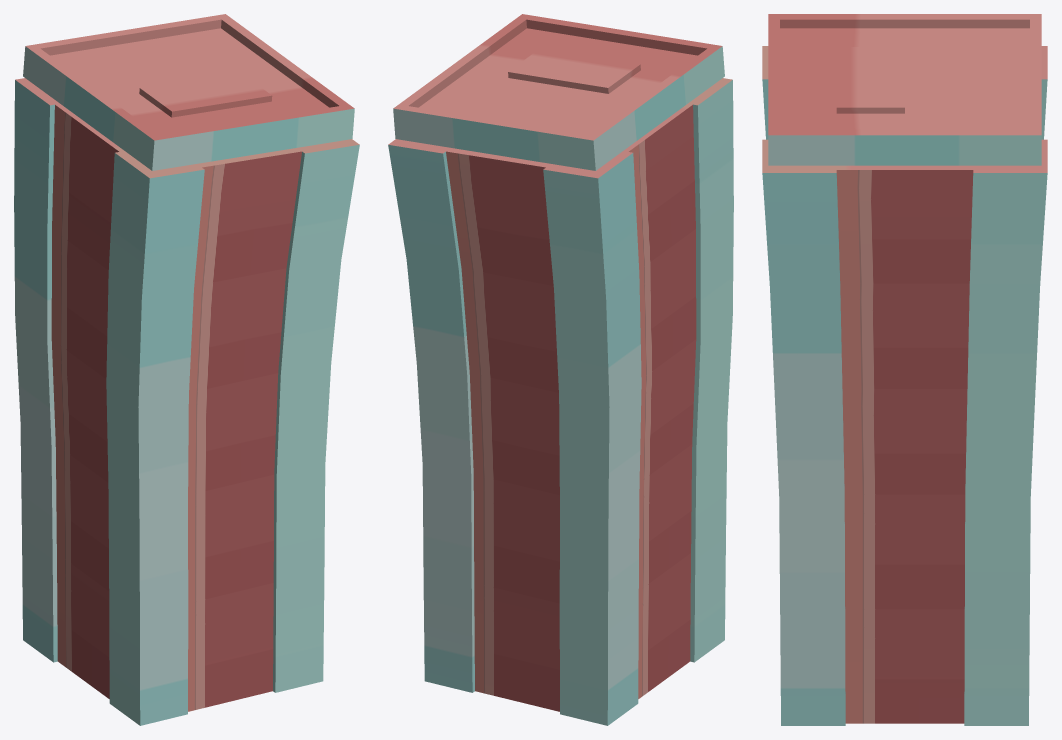
Rendered from BG_building_02.fbx.
The picture shows the model from 3 angles, left to right: view 1: azimuth 30°, elevation 25°; view 2: azimuth 150°, elevation 25°; view 3: azimuth 270°, elevation 25°; orthographic projection. The views are drawn at different scales.
Visible parts, largest first — view 1: BG_building_02; view 2: BG_building_02; view 3: BG_building_02.
Boxes of the visible parts, x1,y1,x2,y2 form: BG_building_02: [14, 14, 359, 725]; BG_building_02: [388, 14, 733, 725]; BG_building_02: [762, 14, 1047, 725].
Bounding box in the file's own units: 52.01 × 135 × 56.33.
